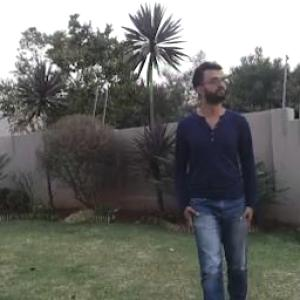follow: (170, 35, 265, 299)
